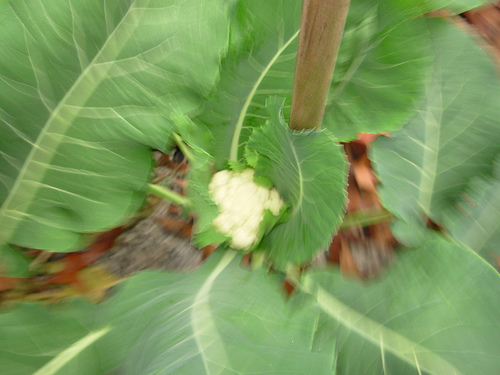cauliflower: (207, 171, 286, 247)
